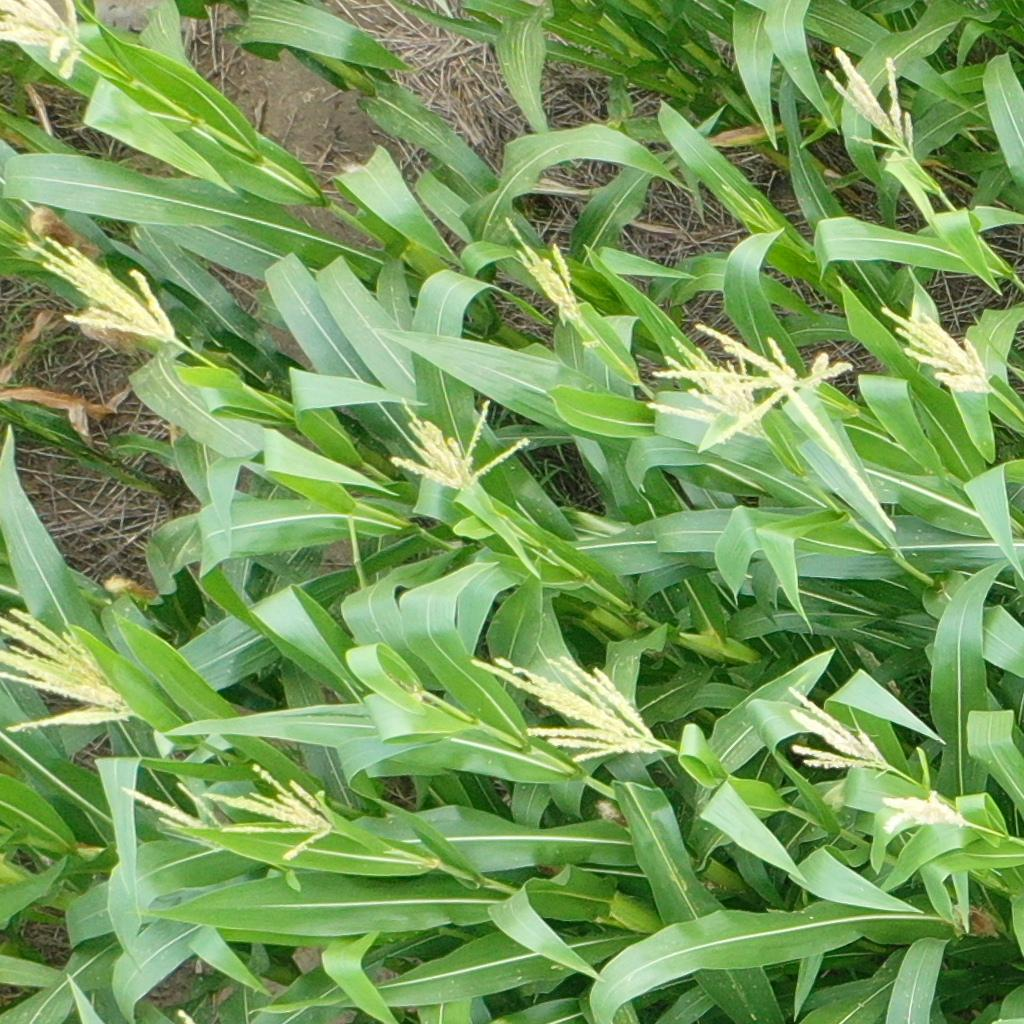Tassel: (653, 322, 896, 530), (465, 651, 675, 763), (1, 608, 148, 733), (27, 232, 181, 345), (389, 396, 532, 493), (647, 337, 773, 442), (204, 764, 337, 860), (822, 46, 918, 167), (881, 305, 994, 396), (502, 215, 585, 326), (785, 688, 891, 774), (1, 1, 86, 81), (121, 781, 225, 831), (874, 784, 967, 832)
